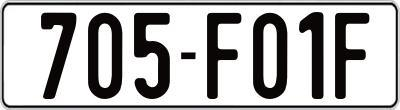0: (252, 10, 289, 99), (88, 10, 122, 98)
1: (297, 11, 325, 101)
5: (133, 10, 174, 99)
7: (38, 11, 79, 97)
F: (335, 11, 374, 97), (206, 13, 242, 99)
